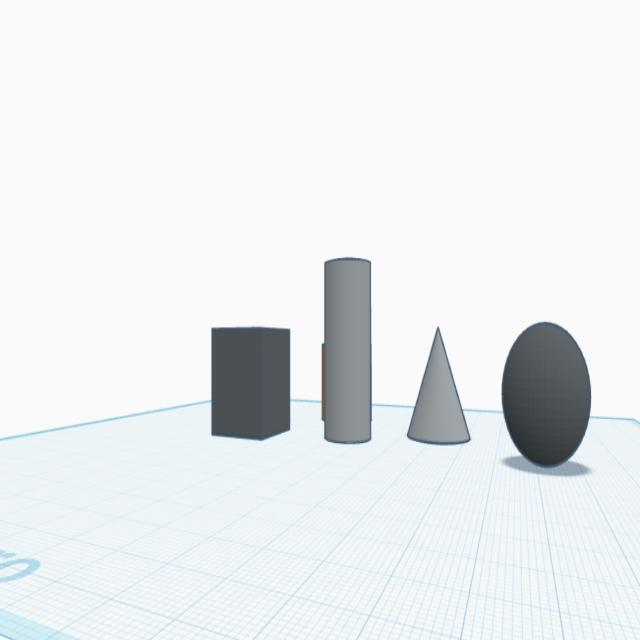cone: (406, 316, 472, 449)
cube: (209, 319, 292, 446)
sphere: (500, 318, 593, 472)
